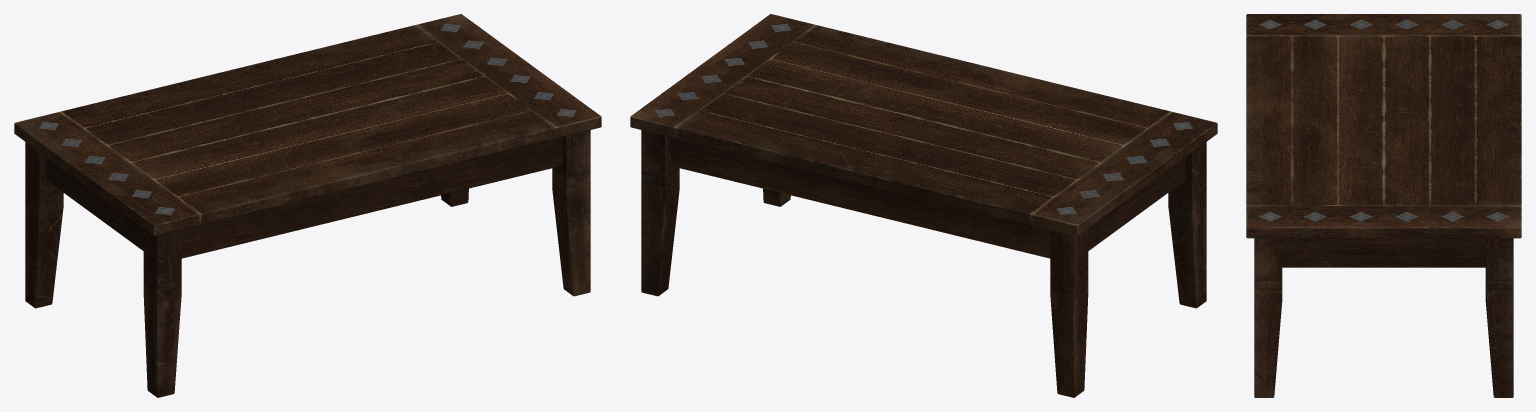
File: Mesa_LOD.fbx
3 renders of one model, left to right at view 1: azimuth 30°, elevation 25°; view 2: azimuth 150°, elevation 25°; view 3: azimuth 270°, elevation 25°, orthographic. The views are drawn at different scales.
Visible parts, largest first — view 1: Mesa_LOD0; view 2: Mesa_LOD0; view 3: Mesa_LOD0.
Boxes of the visible parts, left/top/right/bottom form: Mesa_LOD0: left=14, top=14, right=601, bottom=397; Mesa_LOD0: left=630, top=14, right=1217, bottom=397; Mesa_LOD0: left=1246, top=14, right=1521, bottom=397.
Size of what is drawn, in the model's own units: 1.27 by 0.48 by 0.6888.
